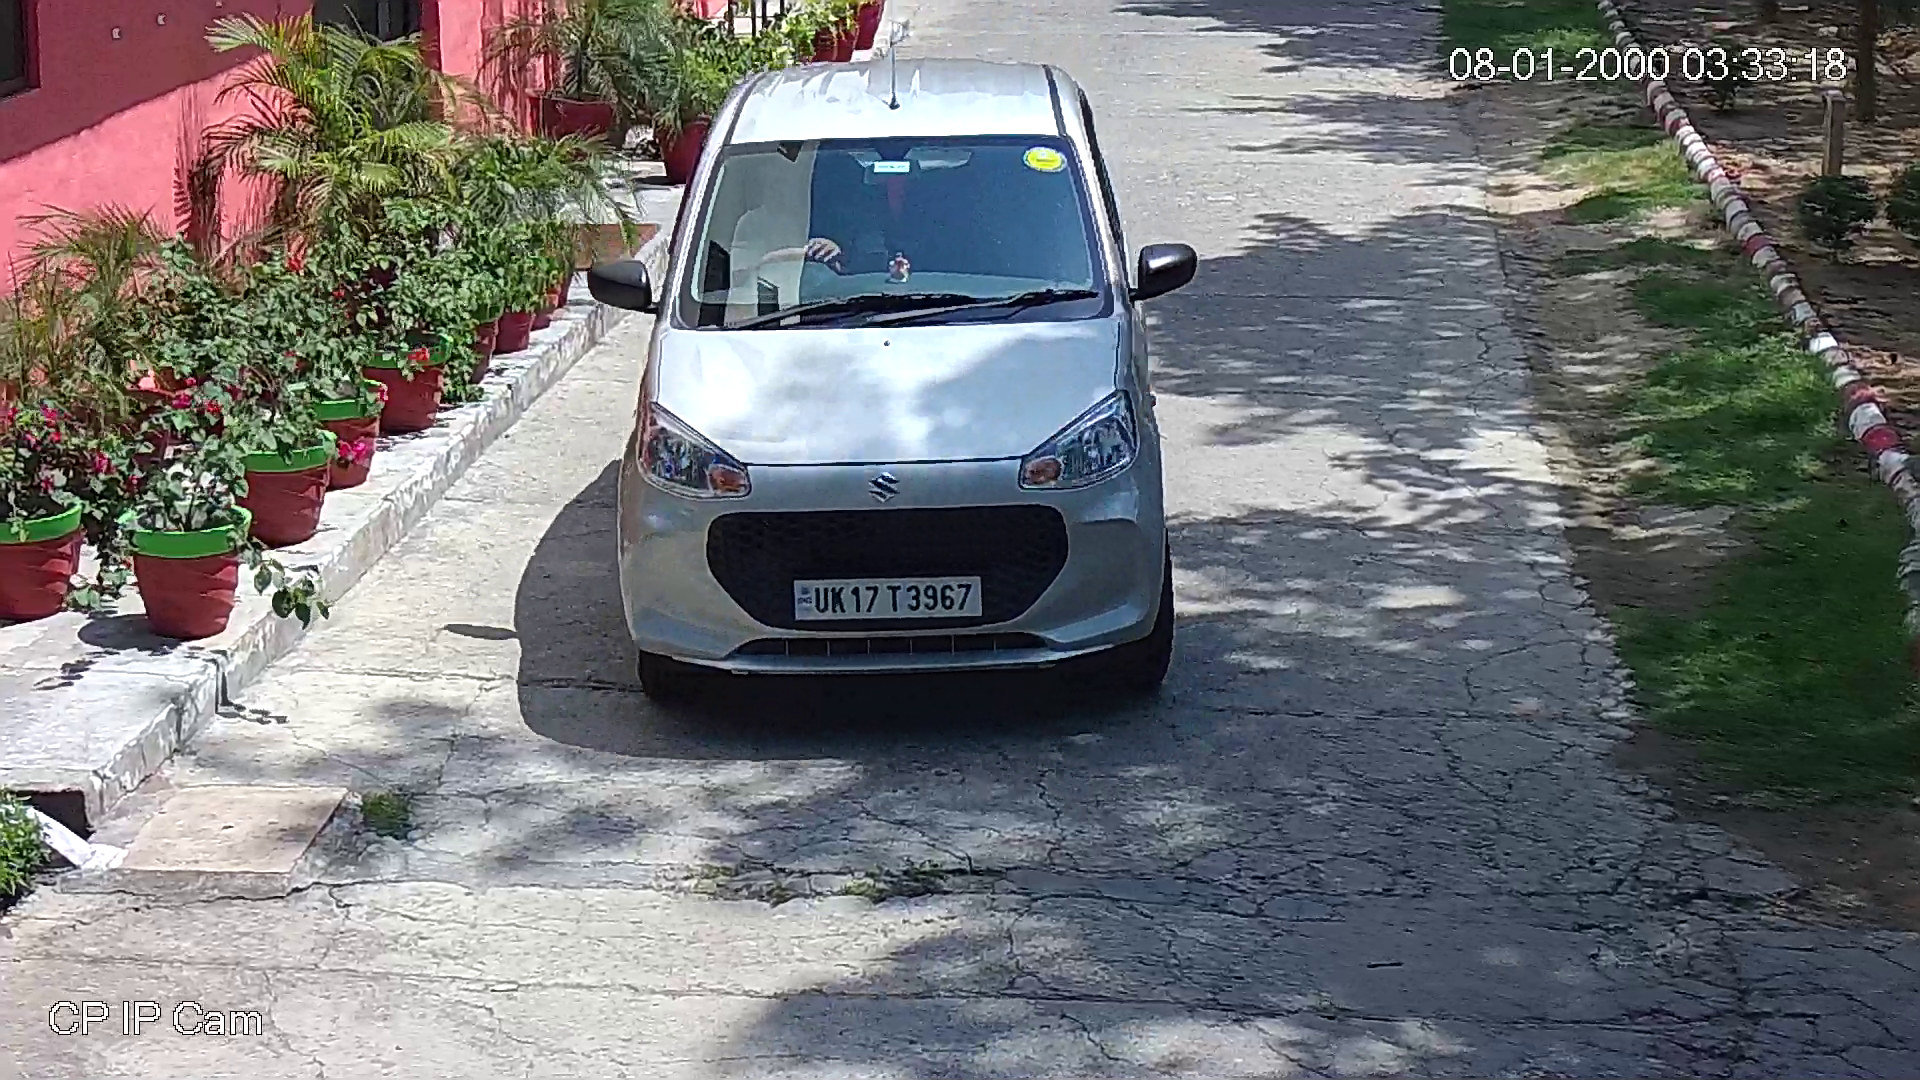plate: (785, 570, 993, 624)
